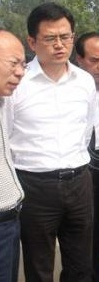boots: (92, 240, 99, 255), (92, 228, 99, 241)
